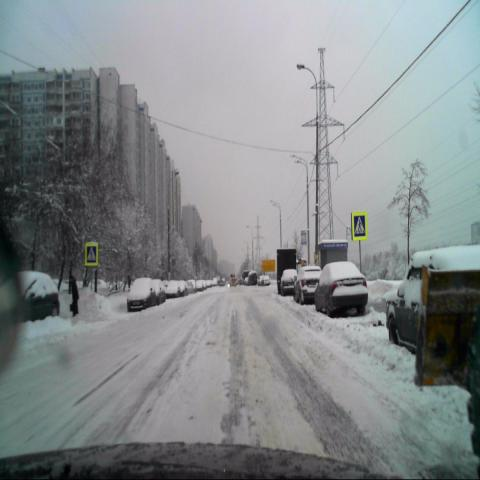5_19_1: (351, 211, 368, 240), (84, 242, 98, 266)
